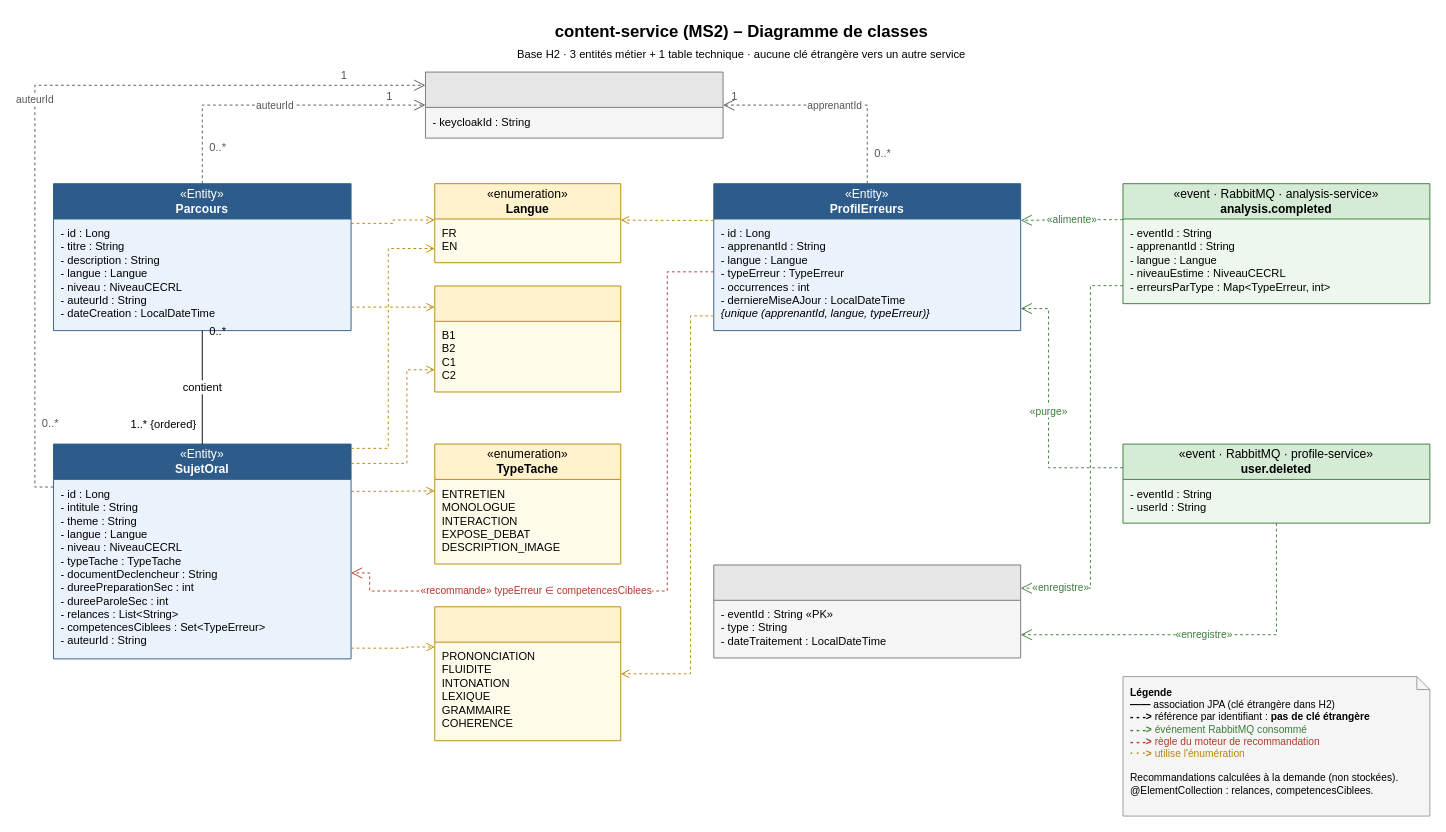
The diagram is 1446 pixels wide and 832 high, and some of its shapes have lost their labels. The box of each missing label's shape, as (x1, y1, x2, y2) in pixels:
«enumeration» NiveauCECRL: (434, 285, 621, 392)
«enumeration» TypeErreur: (434, 606, 621, 741)
«external · profile-service / Keycloak» Utilisateur: (425, 71, 723, 138)
«table technique» EvenementTraite: (713, 564, 1021, 658)
